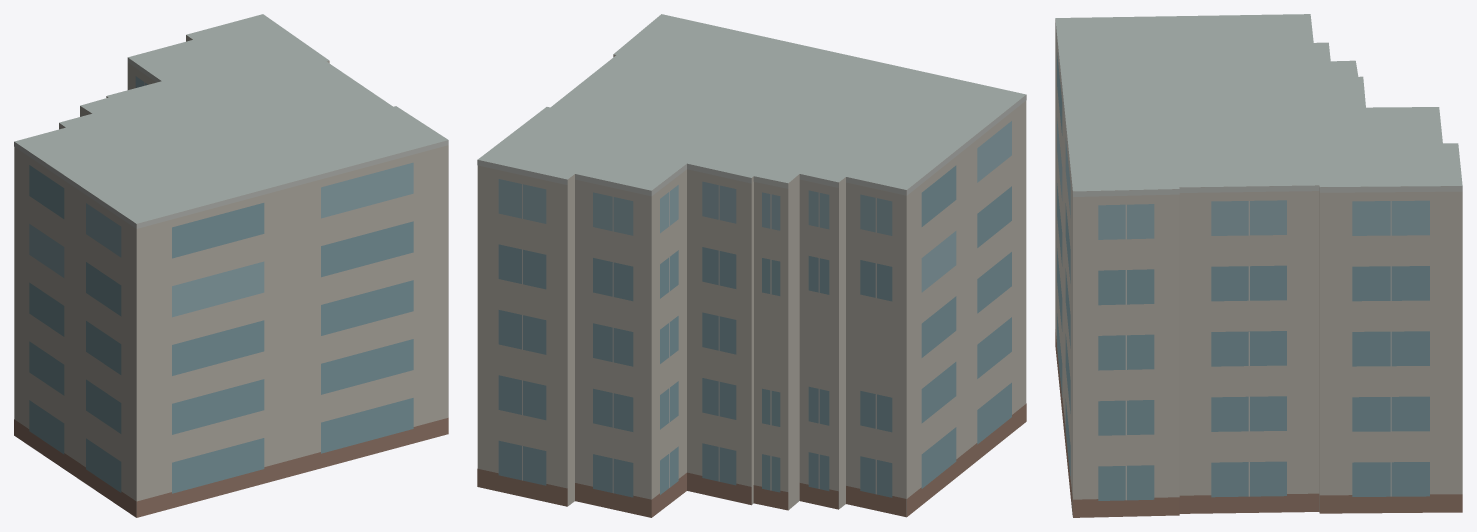
File: survey-upis-32979391.glb
3 views of the same model, side by side, from view 1: azimuth 30°, elevation 25°; view 2: azimuth 150°, elevation 25°; view 3: azimuth 270°, elevation 25° (orthographic). The views are drawn at different scales.
Parts seen in each view (by area): view 1: survey-upis-32979391.tmp; view 2: survey-upis-32979391.tmp; view 3: survey-upis-32979391.tmp.
Boxes of the visible parts, x1=… form: survey-upis-32979391.tmp: x1=14, y1=14, x2=448, y2=517; survey-upis-32979391.tmp: x1=477, y1=14, x2=1026, y2=517; survey-upis-32979391.tmp: x1=1055, y1=14, x2=1462, y2=517.
Bounding box in the file's own units: 16.45 × 14.1 × 15.96.
